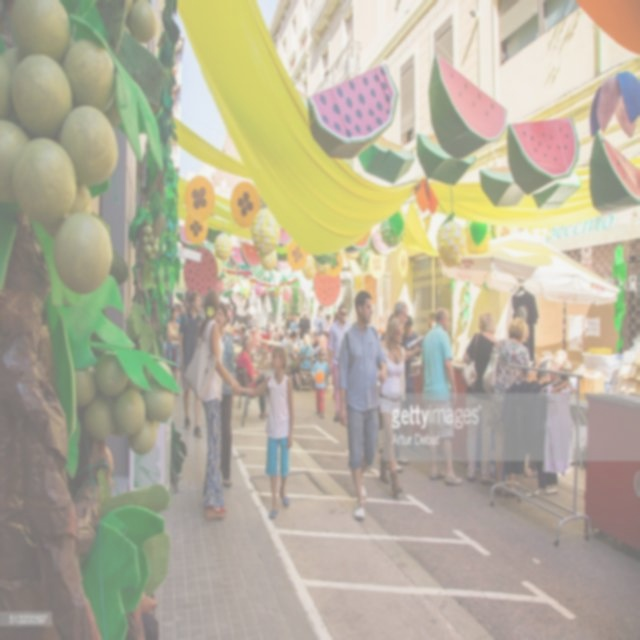pessoa: (337, 288, 388, 522), (229, 344, 295, 521), (200, 288, 242, 523), (486, 316, 532, 500), (419, 306, 463, 488), (386, 298, 424, 474), (462, 310, 499, 486), (378, 316, 408, 498), (178, 291, 206, 438), (216, 301, 236, 488), (236, 332, 270, 420), (327, 304, 352, 422), (224, 310, 300, 346), (397, 314, 422, 394), (163, 306, 184, 398), (312, 348, 329, 420), (294, 331, 314, 392), (536, 348, 570, 383), (285, 329, 303, 386), (296, 306, 312, 346), (312, 304, 328, 340), (310, 326, 330, 354), (374, 405, 384, 453), (182, 290, 192, 314), (426, 310, 436, 330), (173, 302, 183, 318), (379, 331, 387, 348), (325, 312, 334, 326), (386, 311, 396, 323)
